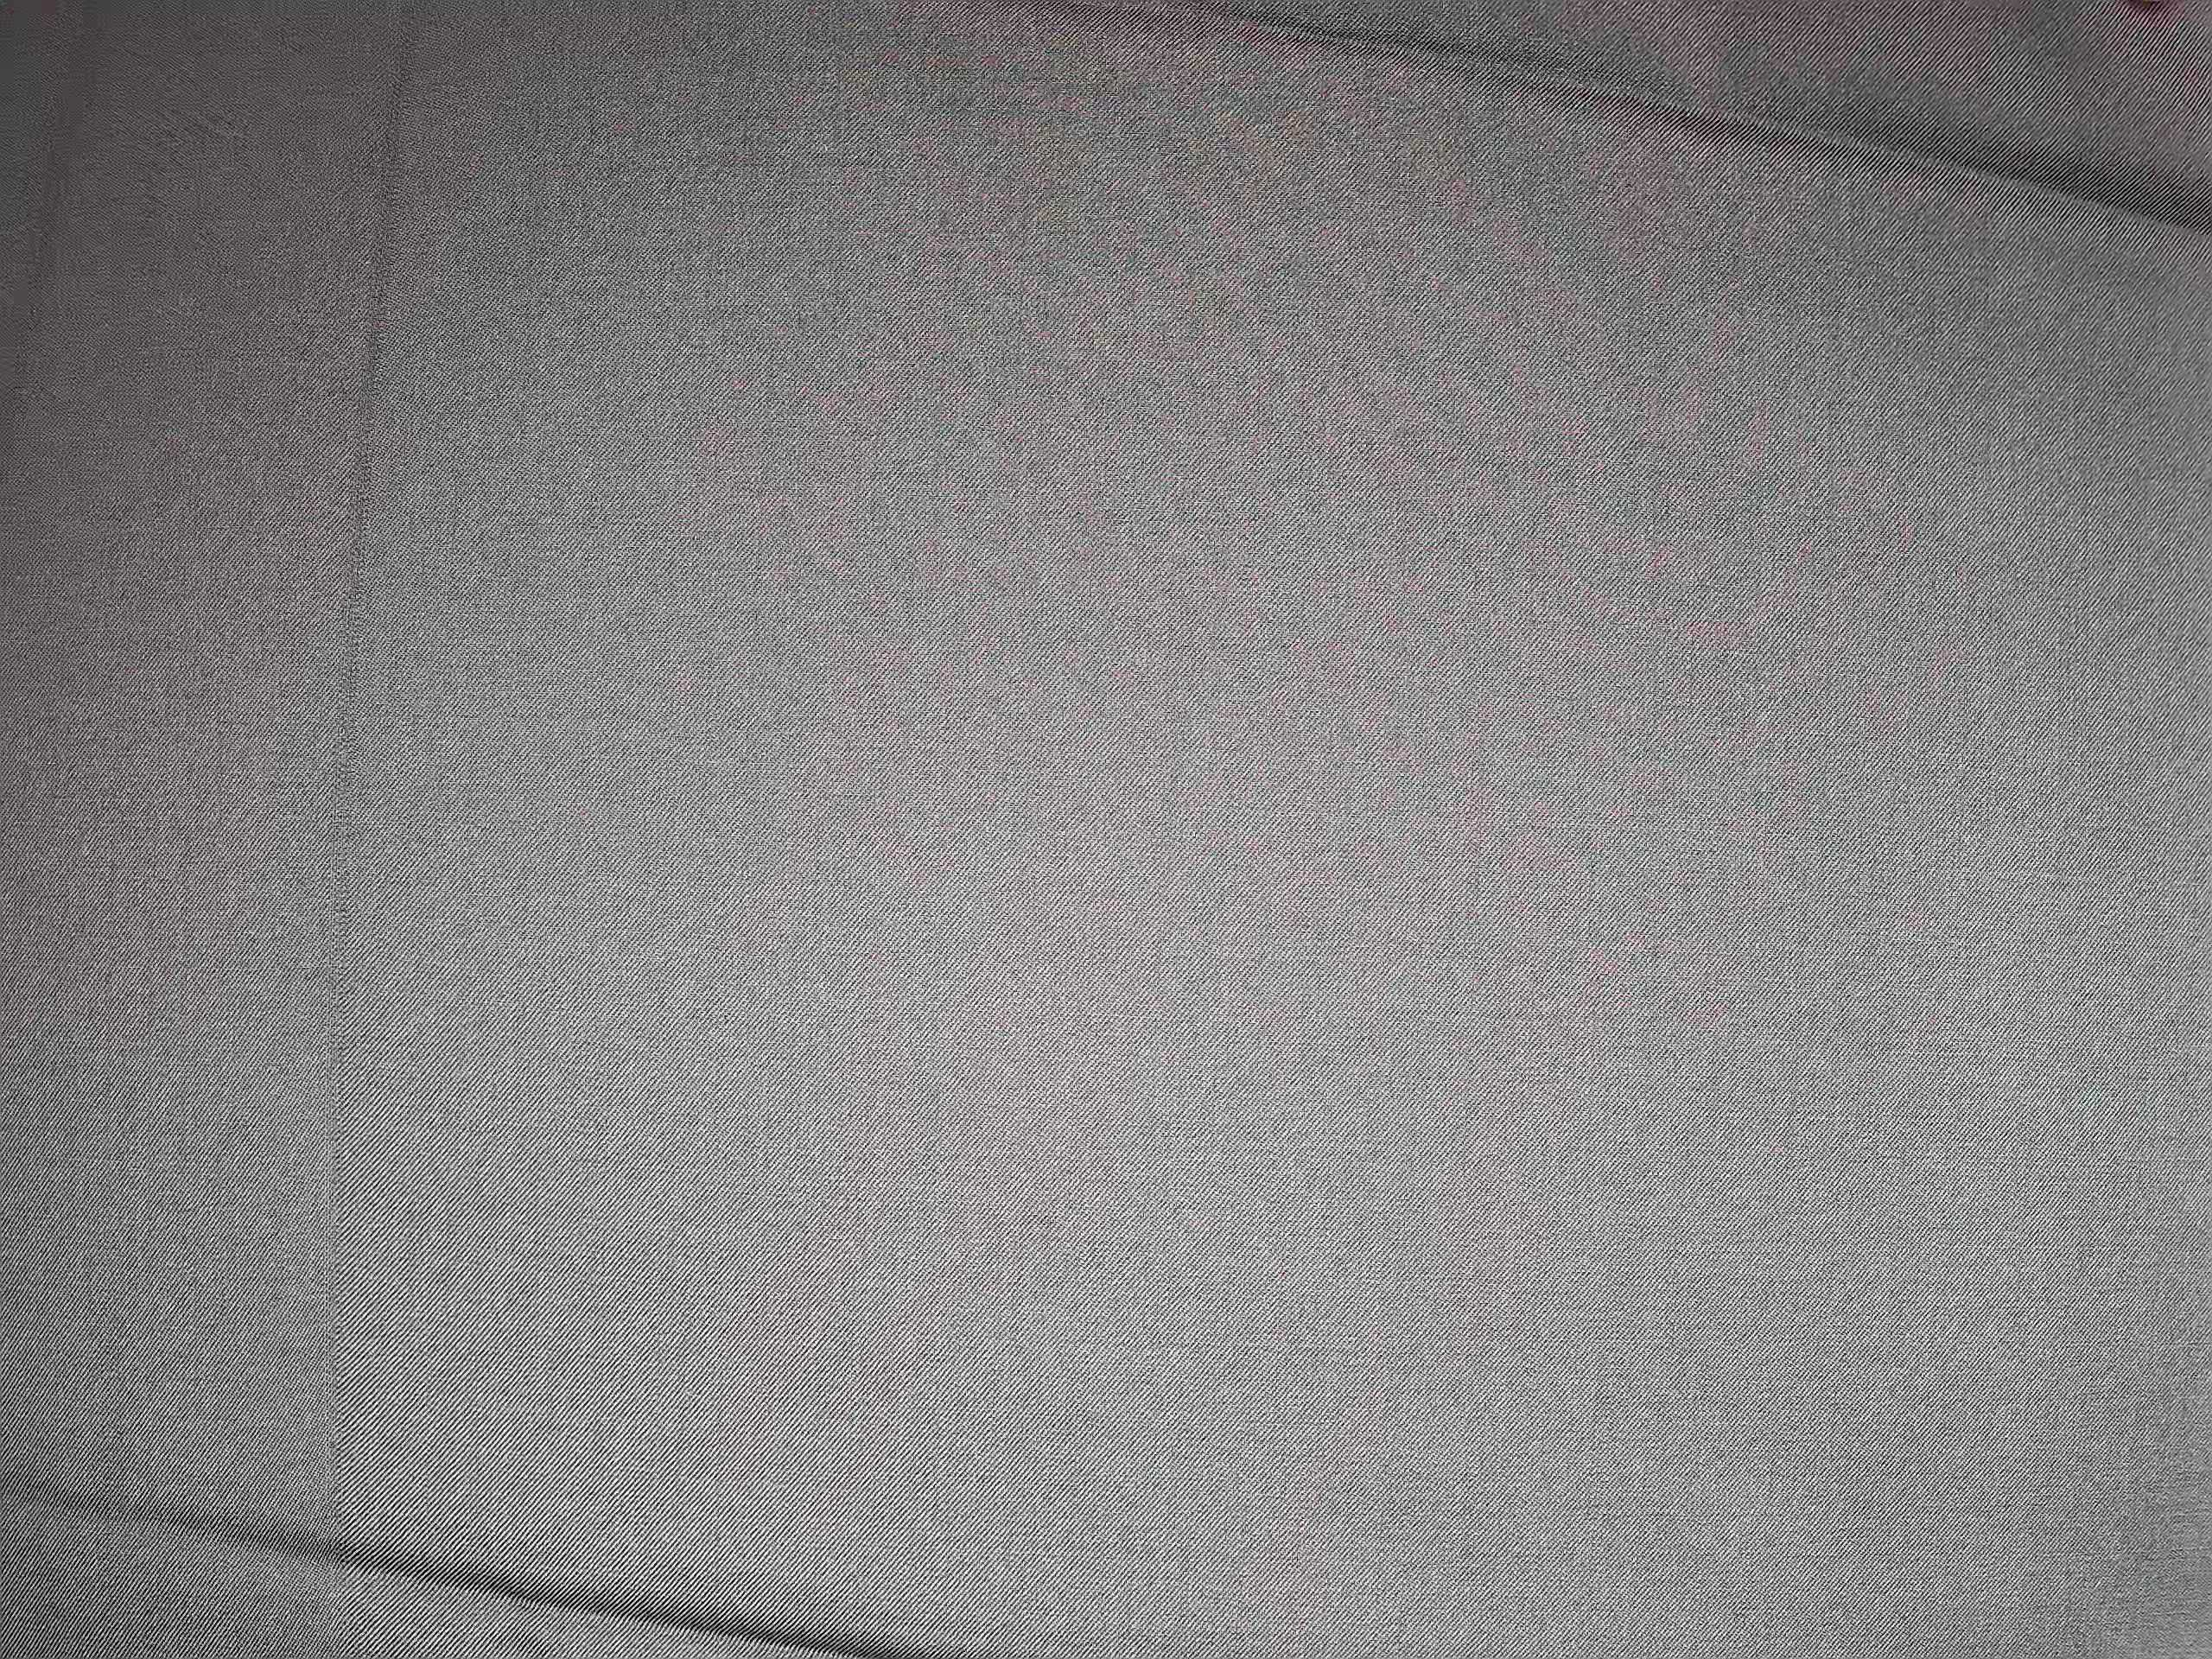hanging-warp: (319, 3, 439, 1194)
